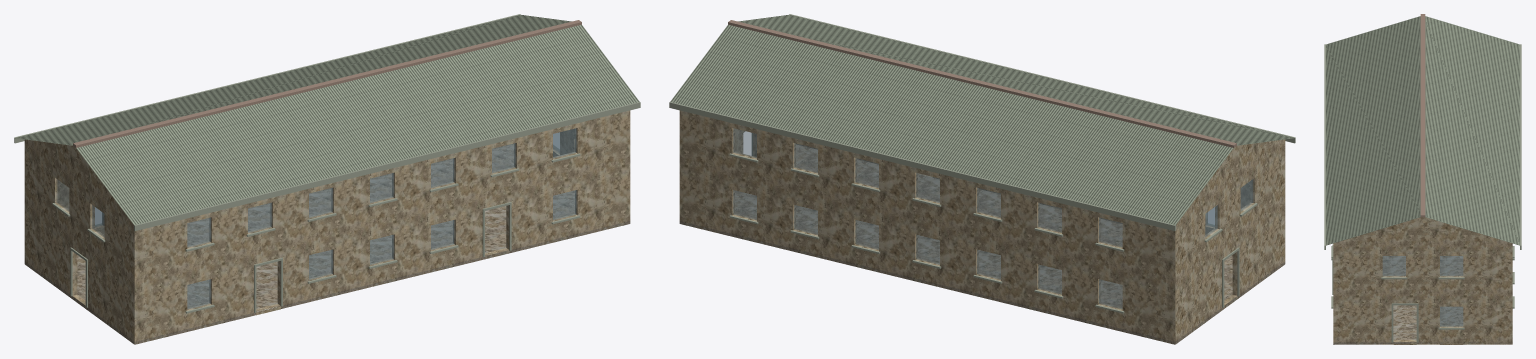
The model's file is barracks-2s.glass-v1.lod1.glb.
3 renders of one model, left to right at view 1: azimuth 30°, elevation 25°; view 2: azimuth 150°, elevation 25°; view 3: azimuth 270°, elevation 25°, orthographic. The views are drawn at different scales.
Parts seen in each view (by area): view 1: barracks-2s; view 2: barracks-2s; view 3: barracks-2s.
Part boxes in pixels (x1,y1,x2,y2): barracks-2s: (14, 14, 640, 344); barracks-2s: (669, 14, 1295, 344); barracks-2s: (1324, 14, 1521, 344).
Size of the model in its own units: 26.54 by 8.1 by 10.98.
Materials: 4 (2 with a texture image).
